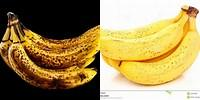banana: (97, 1, 200, 83), (3, 15, 99, 89)
